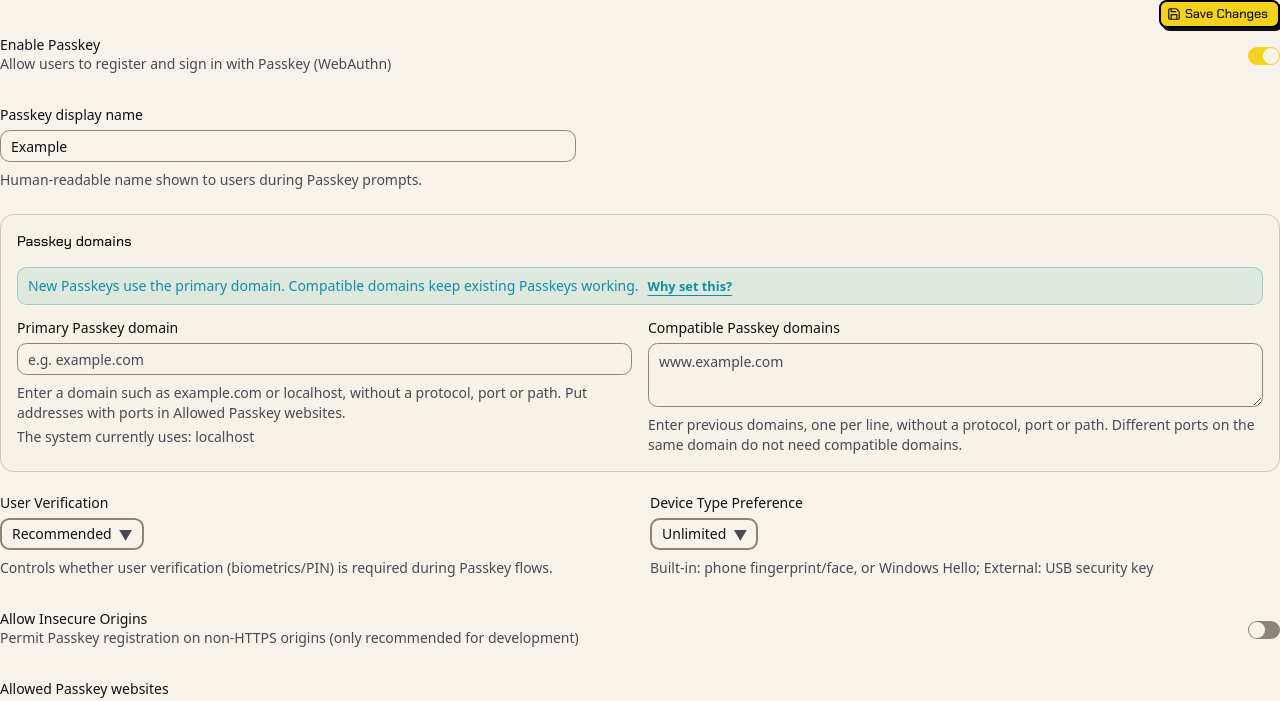
it: Passkey website guidance › explains the effect on existing Passkeys and fills an empty website list including the port
Click the button "Why set this?". click: (690, 286)
box: x1=647 y1=276 x2=733 y2=296
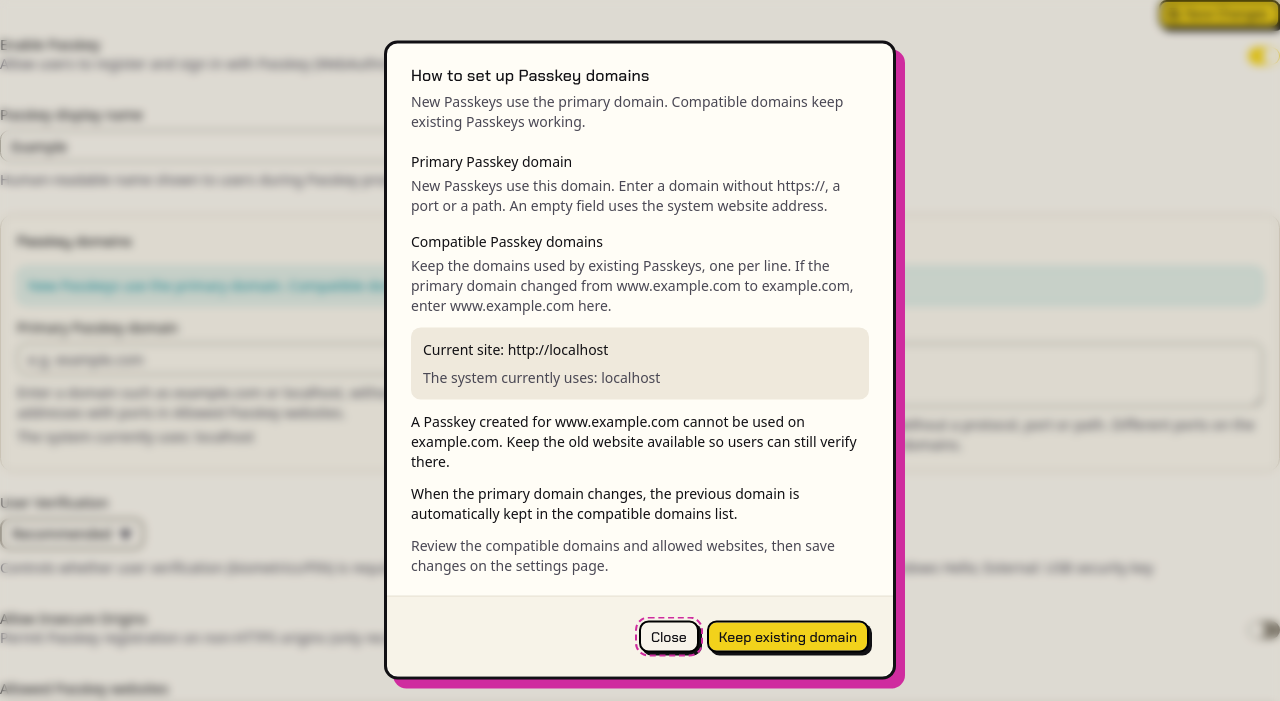
Check: the text "When the primary domain changes, the previous domain is automatically kept in the compatible domains list." is shown, box x1=411 y1=484 x2=799 y2=522
Click the button "Keep existing domain". click: (788, 636)
box: x1=707 y1=620 x2=869 y2=652
(page scrolled)
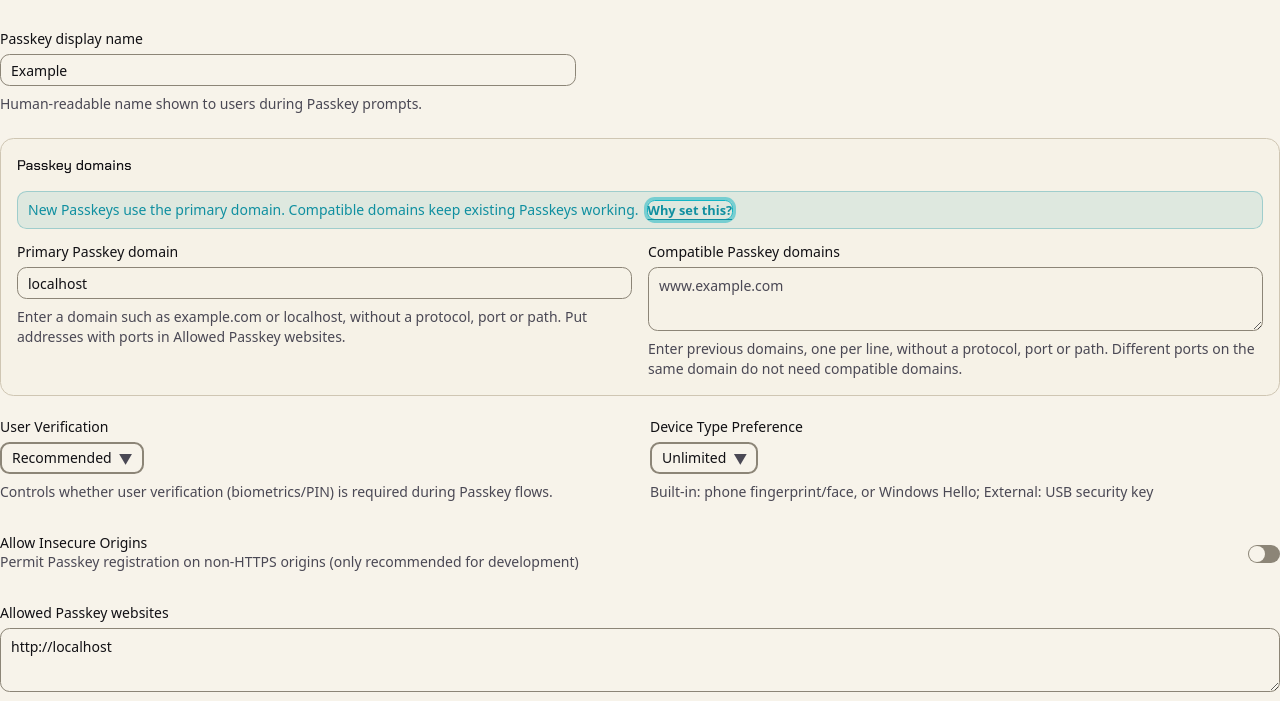
Check: the dialog is gone
Check: the text box labelled "Allowed Passkey websites" holds "http://localhost", box x1=0 y1=628 x2=1279 y2=692
